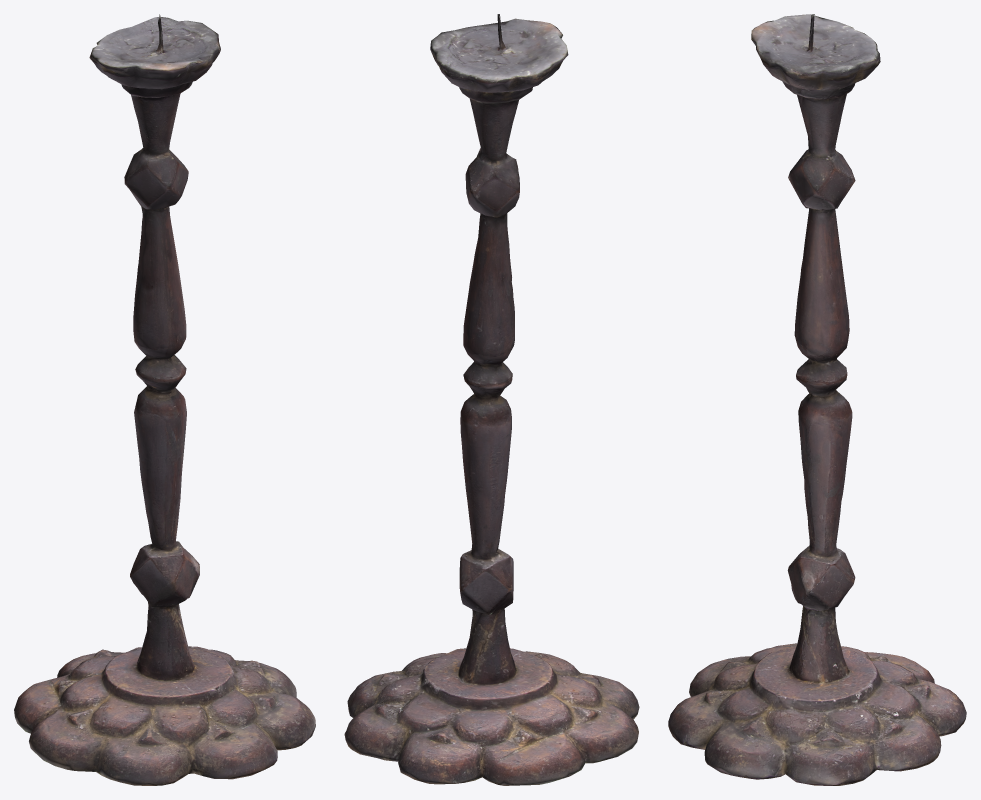
File: SM_Candlestick.fbx
3 renders of one model, left to right at view 1: azimuth 30°, elevation 25°; view 2: azimuth 150°, elevation 25°; view 3: azimuth 270°, elevation 25°, orthographic.
Parts seen in each view (by area): view 1: KCDF_2022_prop_Candlestick_Mesh; view 2: KCDF_2022_prop_Candlestick_Mesh; view 3: KCDF_2022_prop_Candlestick_Mesh.
Boxes of the visible parts, x1=… form: KCDF_2022_prop_Candlestick_Mesh: x1=14, y1=14, x2=315, y2=785; KCDF_2022_prop_Candlestick_Mesh: x1=344, y1=14, x2=639, y2=785; KCDF_2022_prop_Candlestick_Mesh: x1=668, y1=14, x2=966, y2=785.
Size of the model in its own units: 25.1 by 65.02 by 24.86.
1 material, 1 textured.
